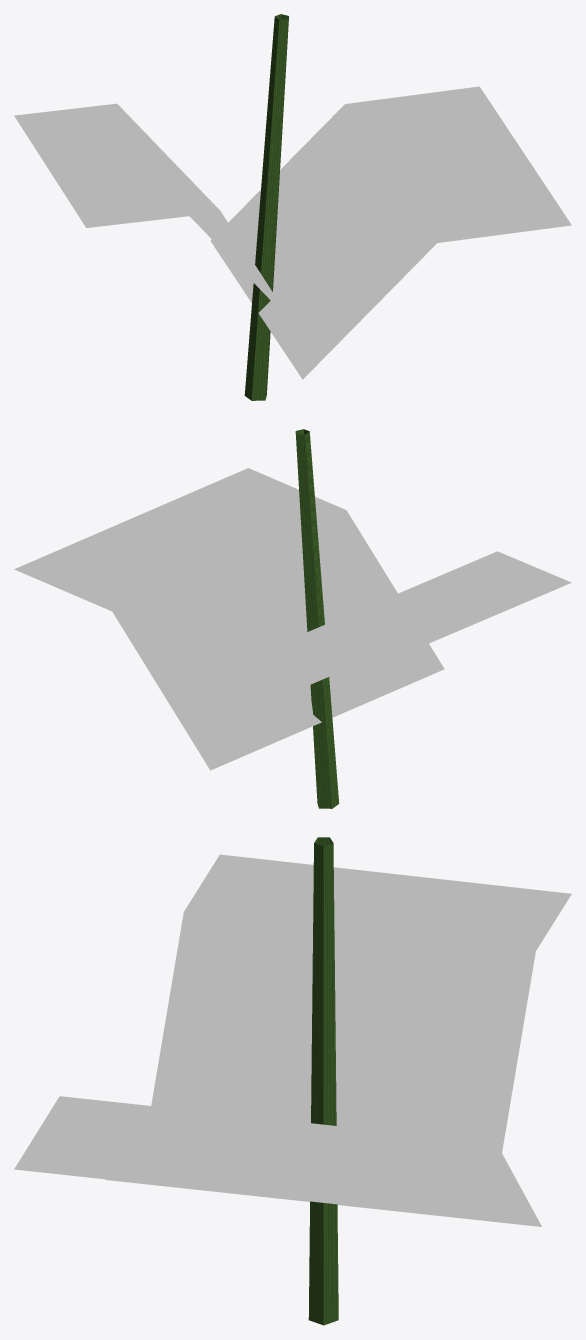
The model's file is tall_0.obj.
3 renders of one model, top to bottom at view 1: azimuth 30°, elevation 25°; view 2: azimuth 150°, elevation 25°; view 3: azimuth 270°, elevation 25°, orthographic. The views are drawn at different scales.
Parts seen in each view (by area): view 1: plant; view 2: plant; view 3: plant.
Part boxes in pixels (x1,y1,x2,y2): plant: (14, 14, 571, 400); plant: (14, 429, 571, 808); plant: (14, 837, 571, 1325).
Bounding box in the file's own units: 0.2905 × 0.2163 × 0.2212.
